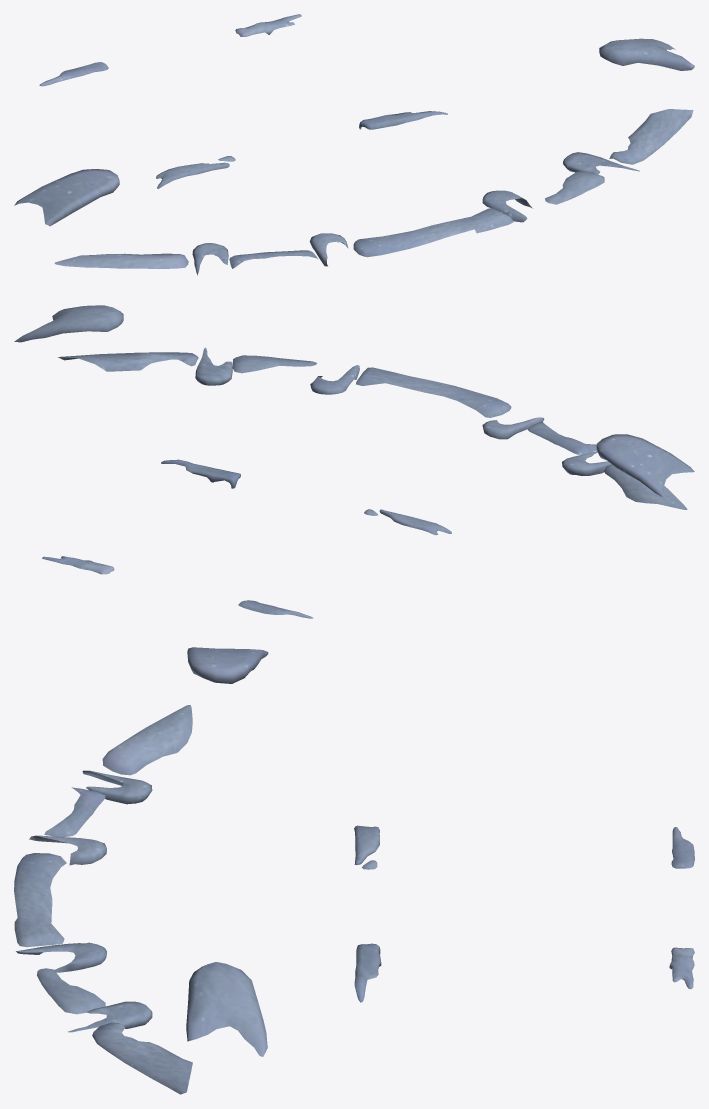
File: pref_sm_beach_winter_snow17_lv1.fbx
3 views of the same model, one above another, from view 1: azimuth 30°, elevation 25°; view 2: azimuth 150°, elevation 25°; view 3: azimuth 270°, elevation 25° (orthographic). The views are drawn at different scales.
Visible parts, largest first — view 1: pref_sm_beach_winter_snow17_lv1; view 2: pref_sm_beach_winter_snow17_lv1; view 3: pref_sm_beach_winter_snow17_lv1.
Boxes of the visible parts, left/top/right/bottom form: pref_sm_beach_winter_snow17_lv1: left=14, top=14, right=694, bottom=275; pref_sm_beach_winter_snow17_lv1: left=14, top=305, right=694, bottom=618; pref_sm_beach_winter_snow17_lv1: left=14, top=647, right=694, bottom=1094.
Bounding box in the file's own units: 33.36 × 4.11 × 24.07.
